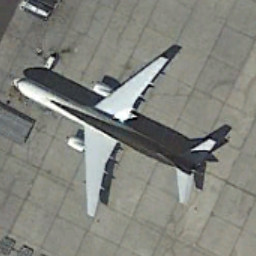Airplane: (8, 43, 231, 225)
